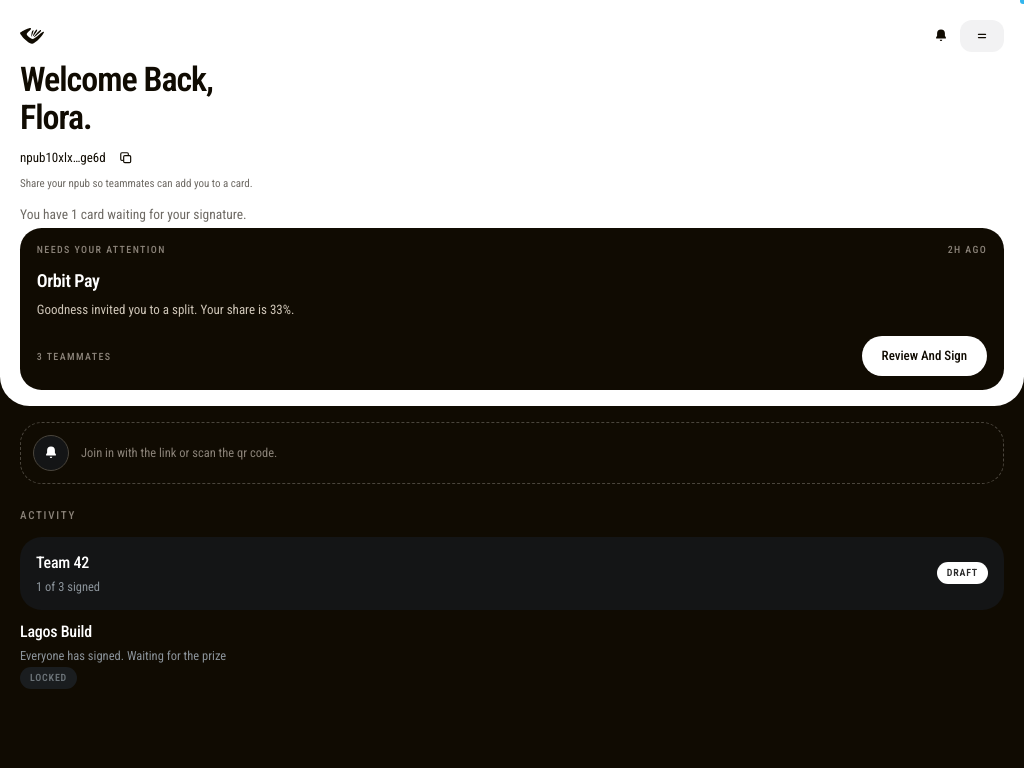
Test: home npub › copies the full npub and shows Copied
Click the button named "npub10xlxvlhemja6c4dqv22uapctqupfhlxm9h8z3k2e72q4k9hcz7vqpkge6d": coordinates (63, 158) [20,148,106,168]
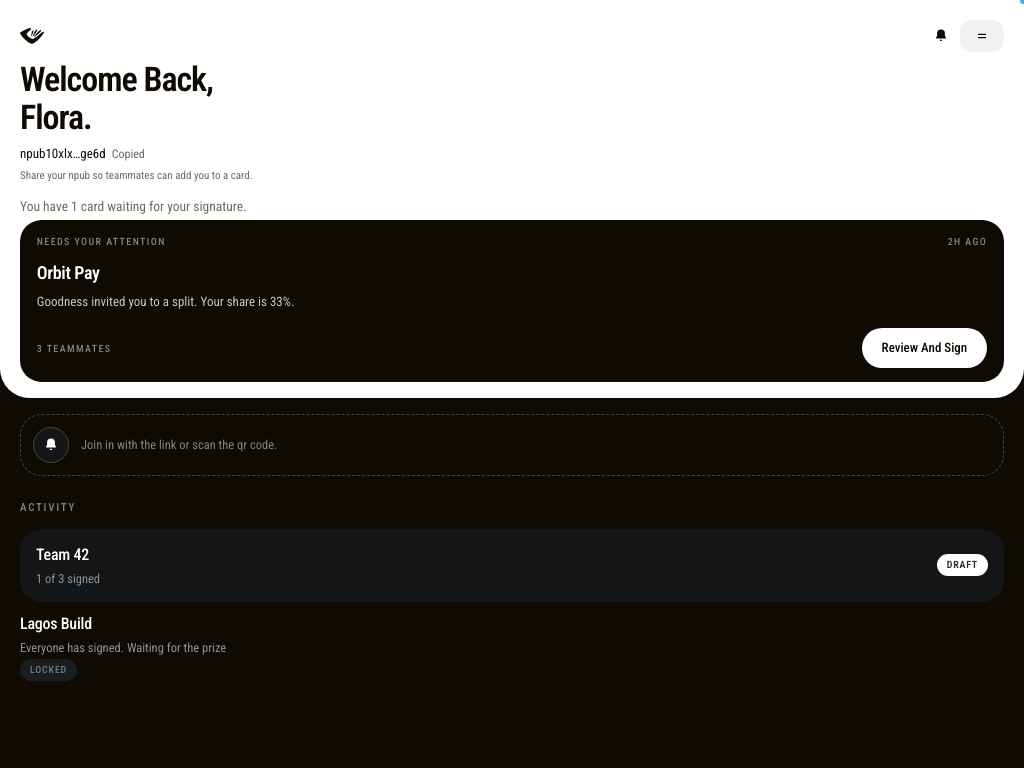
expect the text "Copied" is shown: met, box [112,148,145,160]
